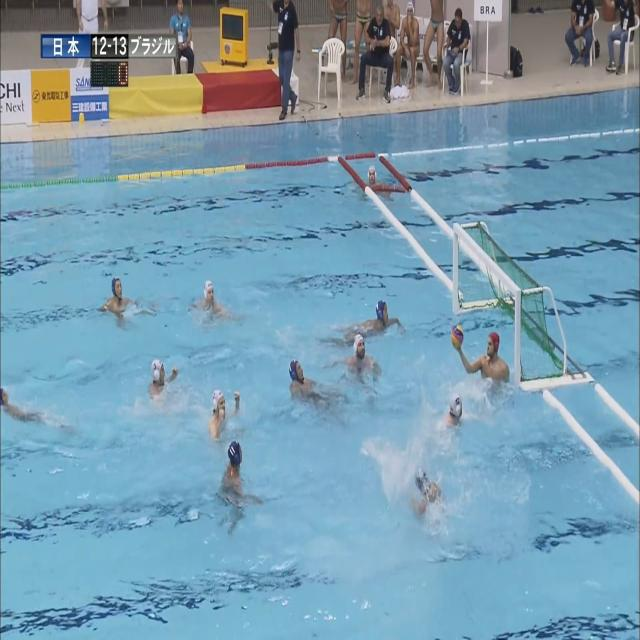ball: (451, 325, 464, 348)
